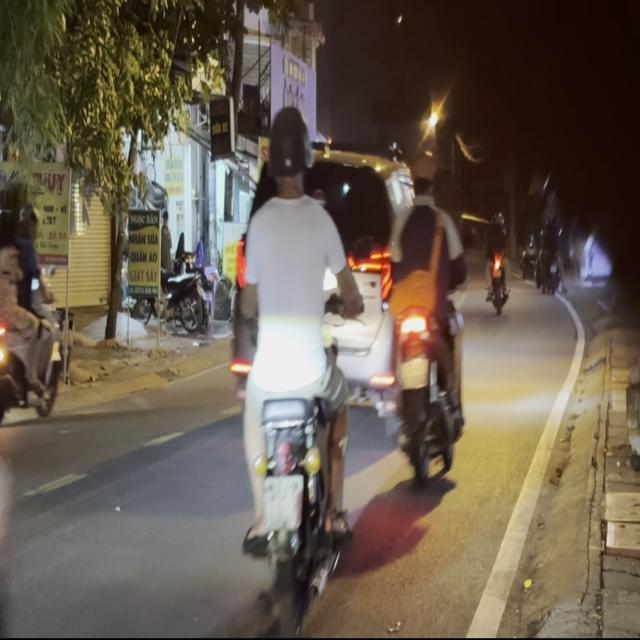helmet: (264, 104, 312, 197), (408, 152, 439, 203), (17, 203, 42, 246)
licenseplate: (228, 102, 364, 630), (380, 150, 470, 488), (0, 200, 63, 441)
nohelmet: (398, 357, 428, 388)
